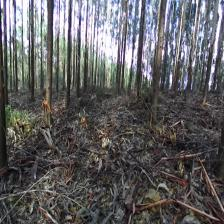trunk: (150, 15, 166, 116), (42, 6, 54, 127), (201, 16, 217, 105), (133, 22, 144, 98), (65, 10, 72, 104), (28, 10, 35, 98), (127, 38, 135, 91), (76, 34, 80, 98)
